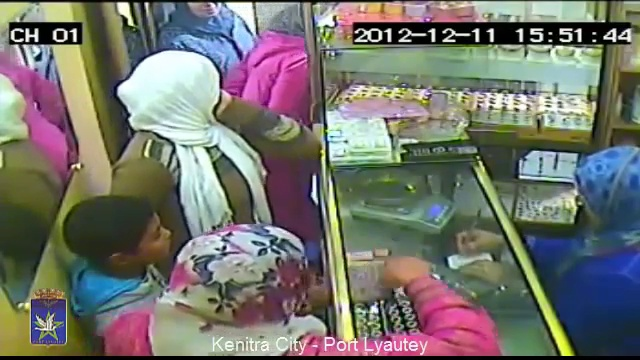face: (117, 219, 173, 261)
